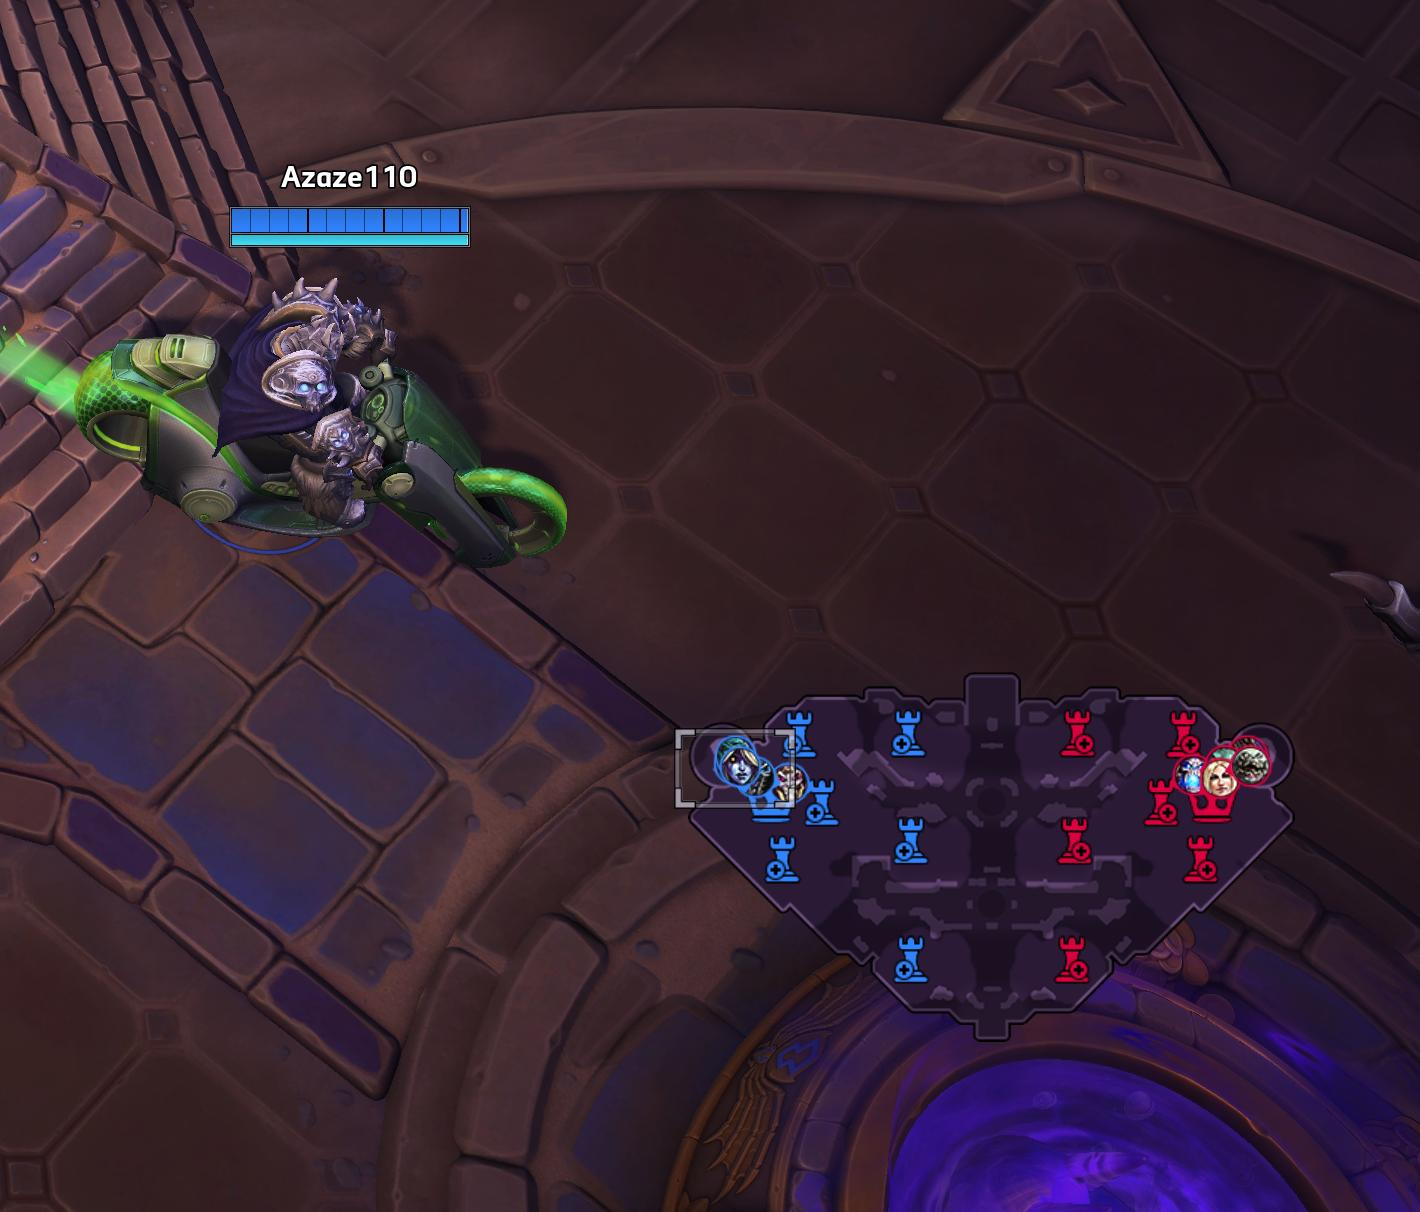blue player: (721, 745, 758, 785), (772, 762, 808, 803), (747, 761, 775, 796)
red player: (1227, 737, 1273, 787), (1202, 743, 1243, 793), (1175, 753, 1208, 795), (1204, 760, 1236, 796)
